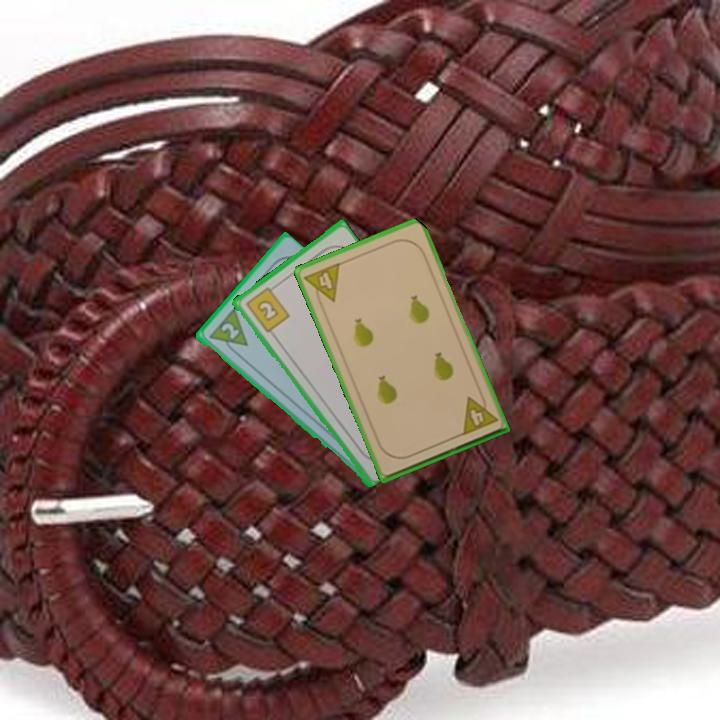2b: (242, 281, 292, 335)
2p: (204, 306, 250, 359)
4p: (301, 259, 343, 309), (458, 389, 500, 438)
